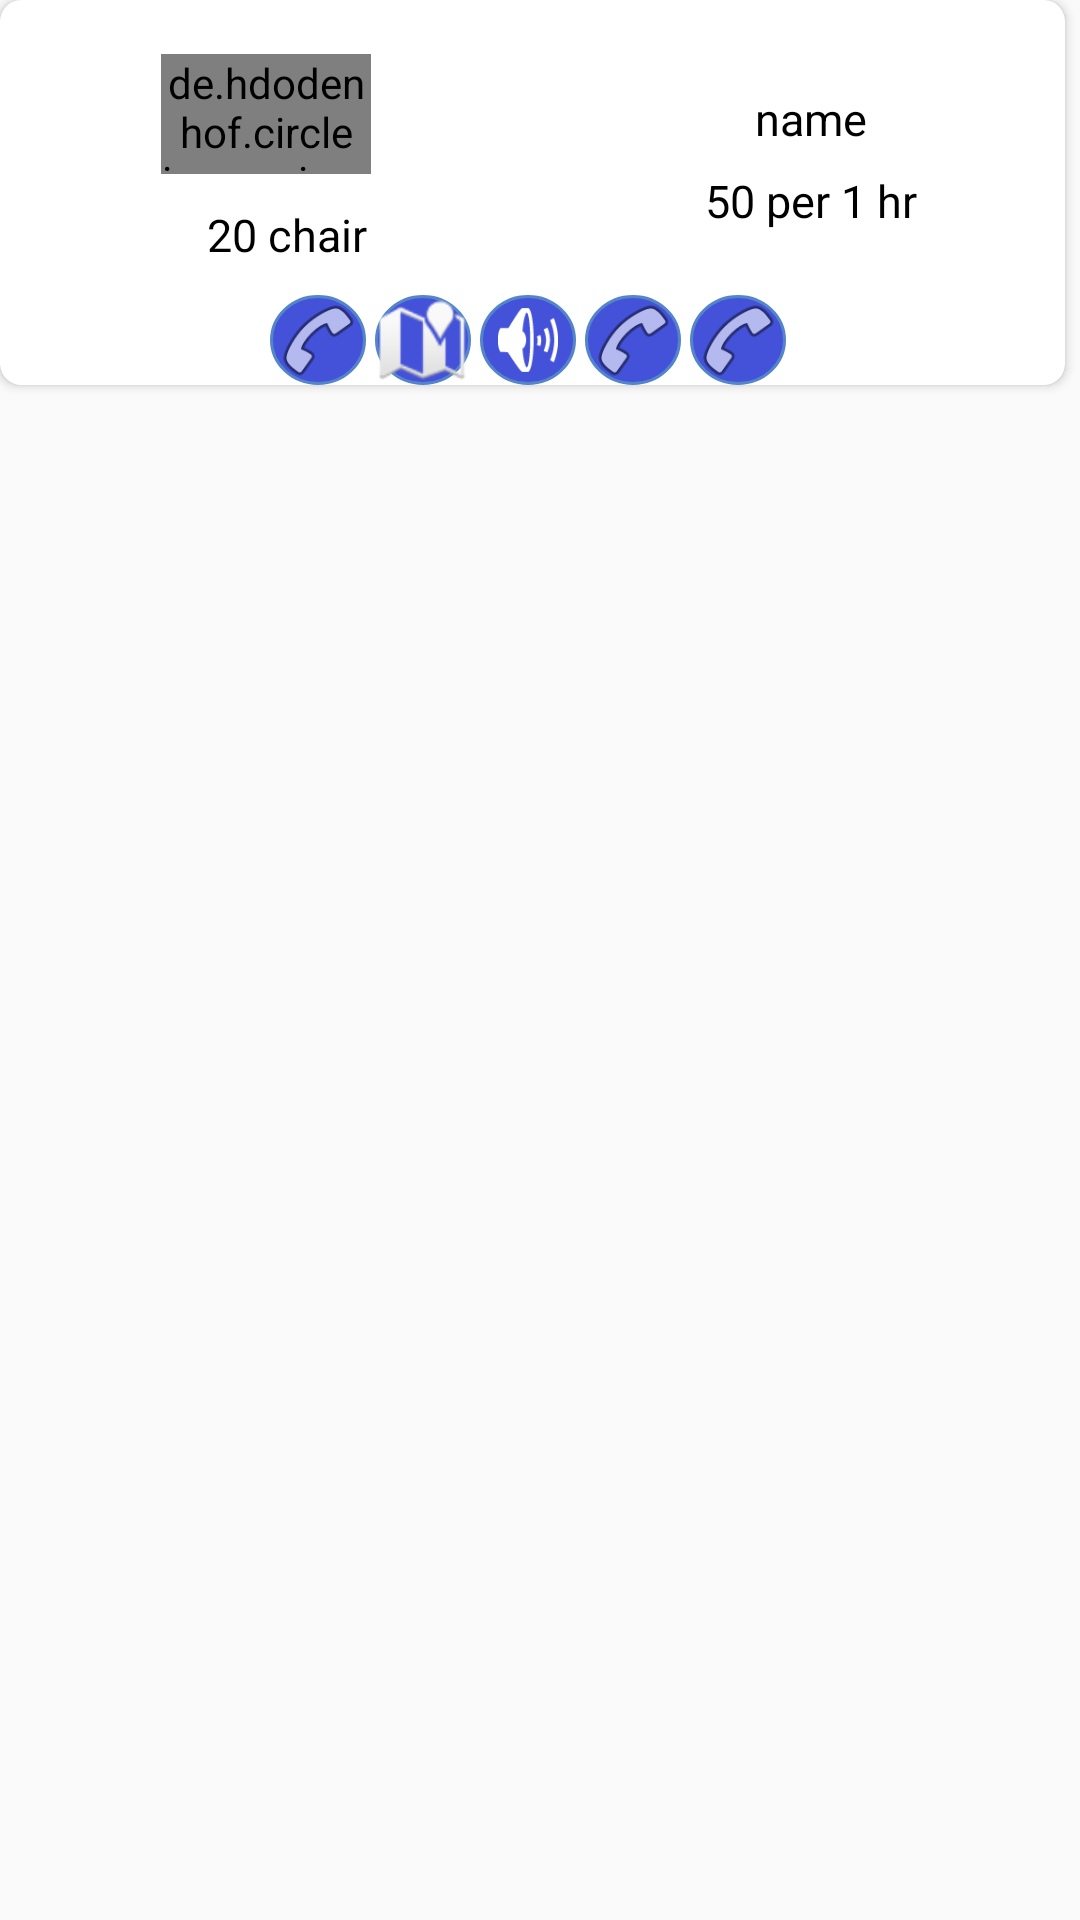

Screen size 1080 × 1920. Icon name, then its box in pixels as (x1=x1, y1=y1, x2=x2, y2=y2):
call: (x1=270, y1=295, x2=366, y2=385), (x1=585, y1=295, x2=681, y2=385), (x1=690, y1=295, x2=786, y2=385)
lock silent mode off: (x1=480, y1=295, x2=576, y2=385)
map: (x1=375, y1=295, x2=471, y2=385)
